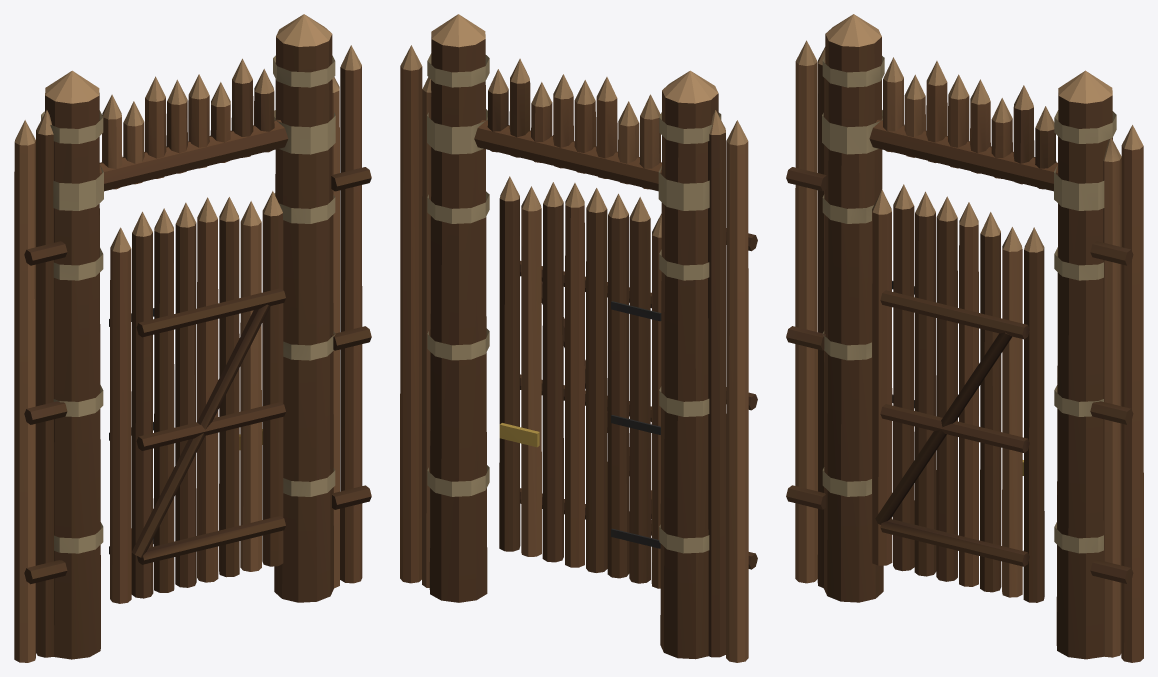
Rendered from fence_wicket.glb.
3 views of the same model, side by side, from view 1: azimuth 30°, elevation 25°; view 2: azimuth 150°, elevation 25°; view 3: azimuth 330°, elevation 25° (orthographic).
Parts seen in each view (by area): view 1: fence_wicket, side; view 2: fence_wicket, side; view 3: fence_wicket, side.
Part boxes in pixels (left/top/right/bottom): fence_wicket: left=14, top=14, right=371, bottom=662; side: left=109, top=191, right=285, bottom=603; fence_wicket: left=400, top=14, right=757, bottom=662; side: left=499, top=176, right=661, bottom=588; fence_wicket: left=786, top=14, right=1143, bottom=662; side: left=871, top=184, right=1044, bottom=602.
Bounding box in the file's own units: 2.38 × 3.8 × 0.4507.
